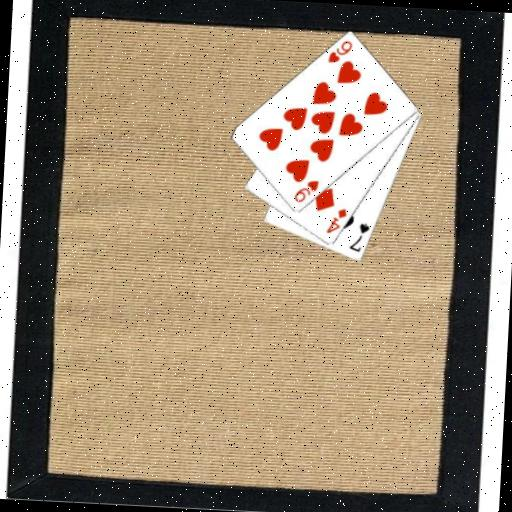4D: (323, 205, 349, 236)
7S: (346, 220, 371, 255)
9H: (325, 37, 355, 66), (291, 177, 321, 205)
